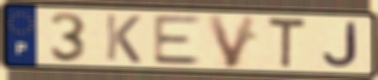3: (48, 11, 89, 64)
E: (151, 14, 205, 66)
J: (321, 20, 361, 69)
K: (103, 12, 143, 65)
T: (264, 14, 308, 71)
V: (204, 14, 260, 70)
